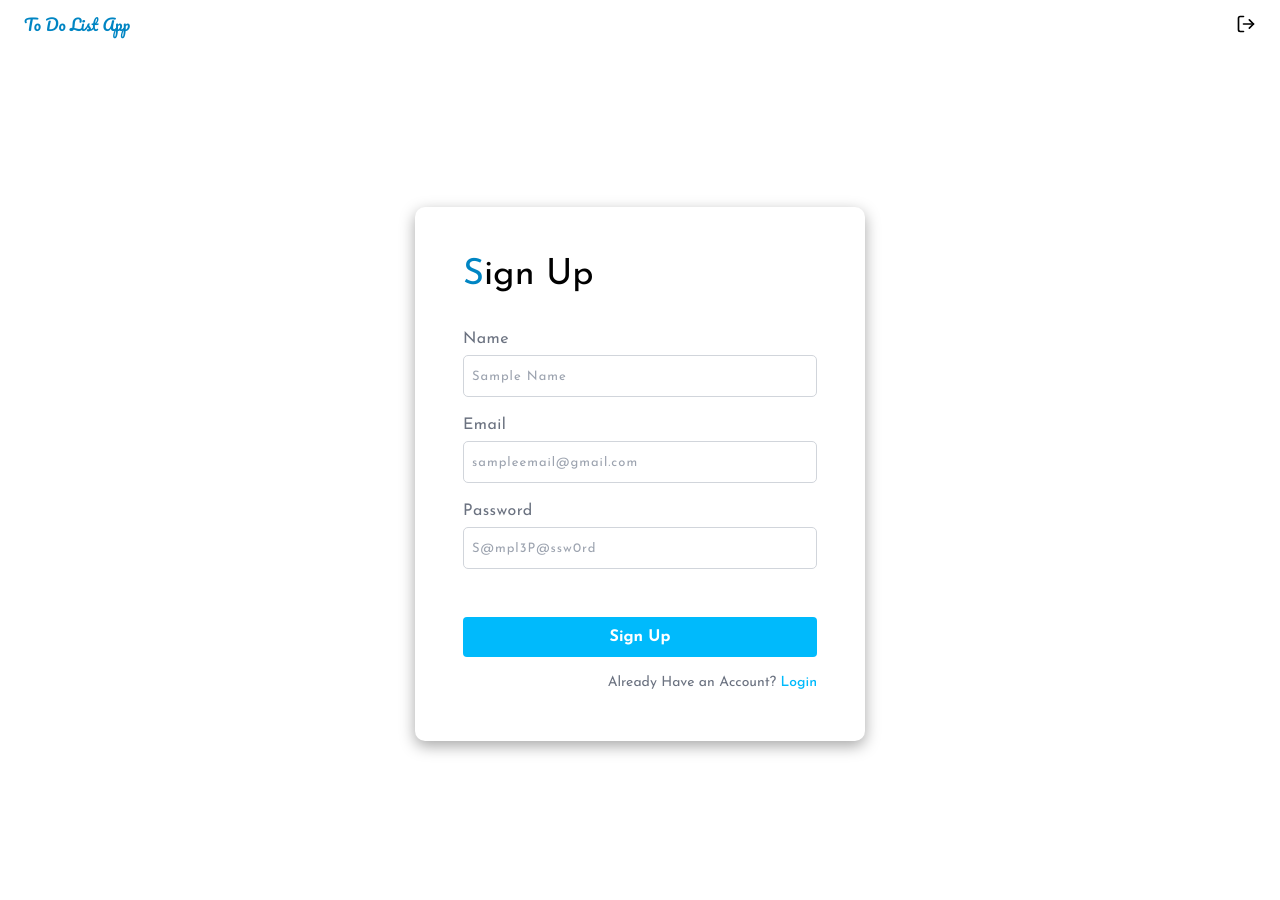
Test: Register View › display error on invalid email
Type "testuser" into the field labelled "Name" at (640, 376), box [463,355,817,397]
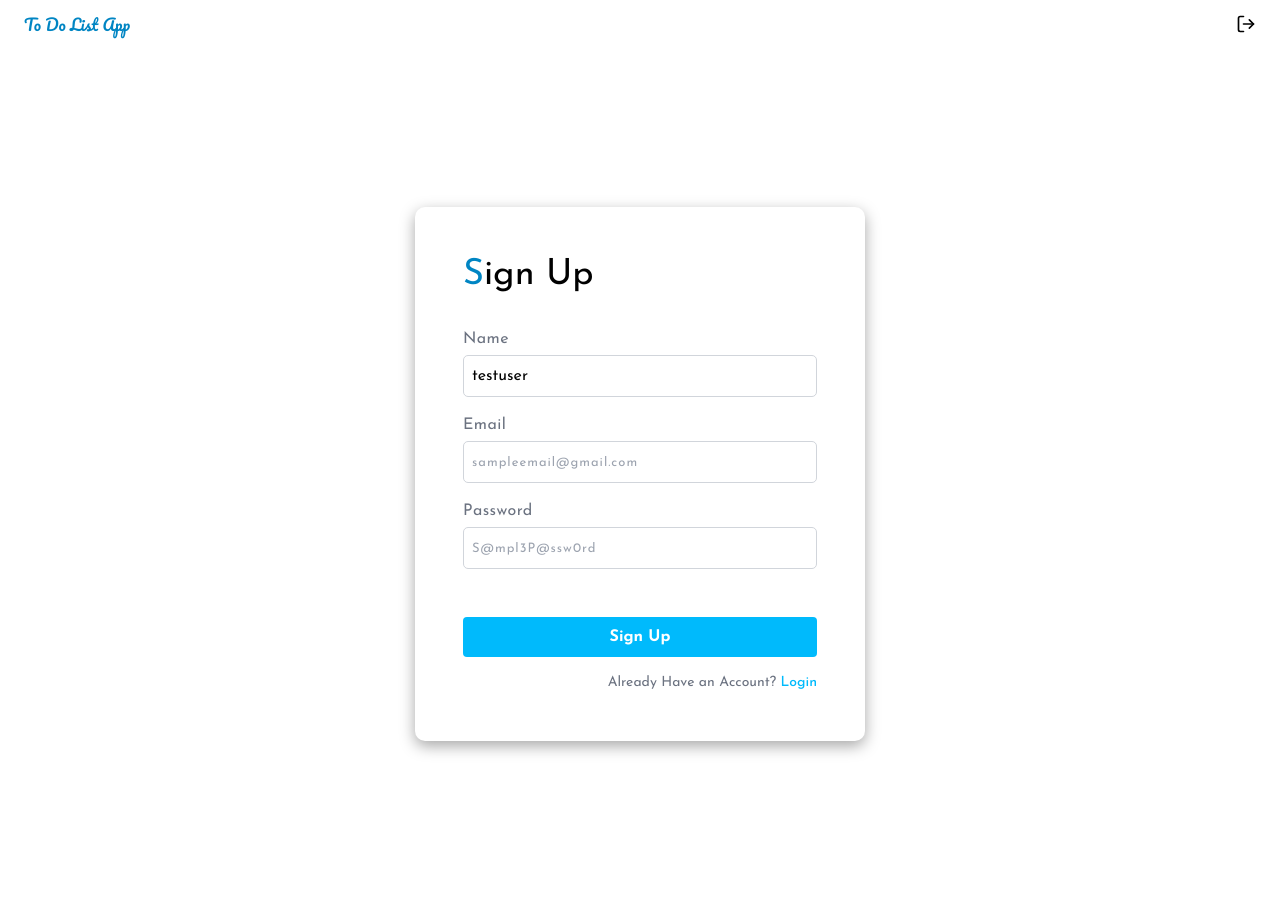
Type "testusergmai" into the field labelled "Email" at (640, 462), box [463,441,817,483]
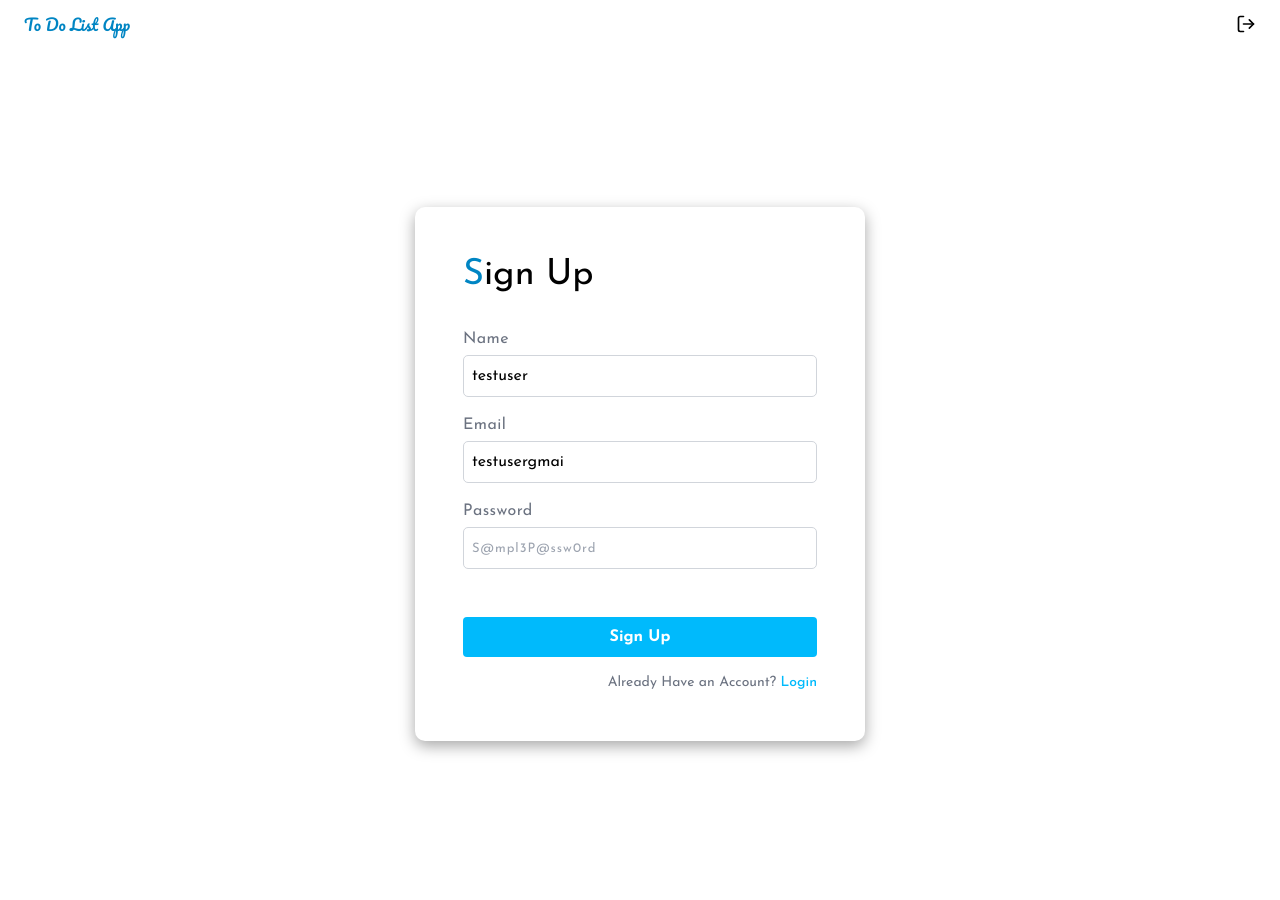
Click the button "Sign Up" at (640, 637), box [463,617,817,657]
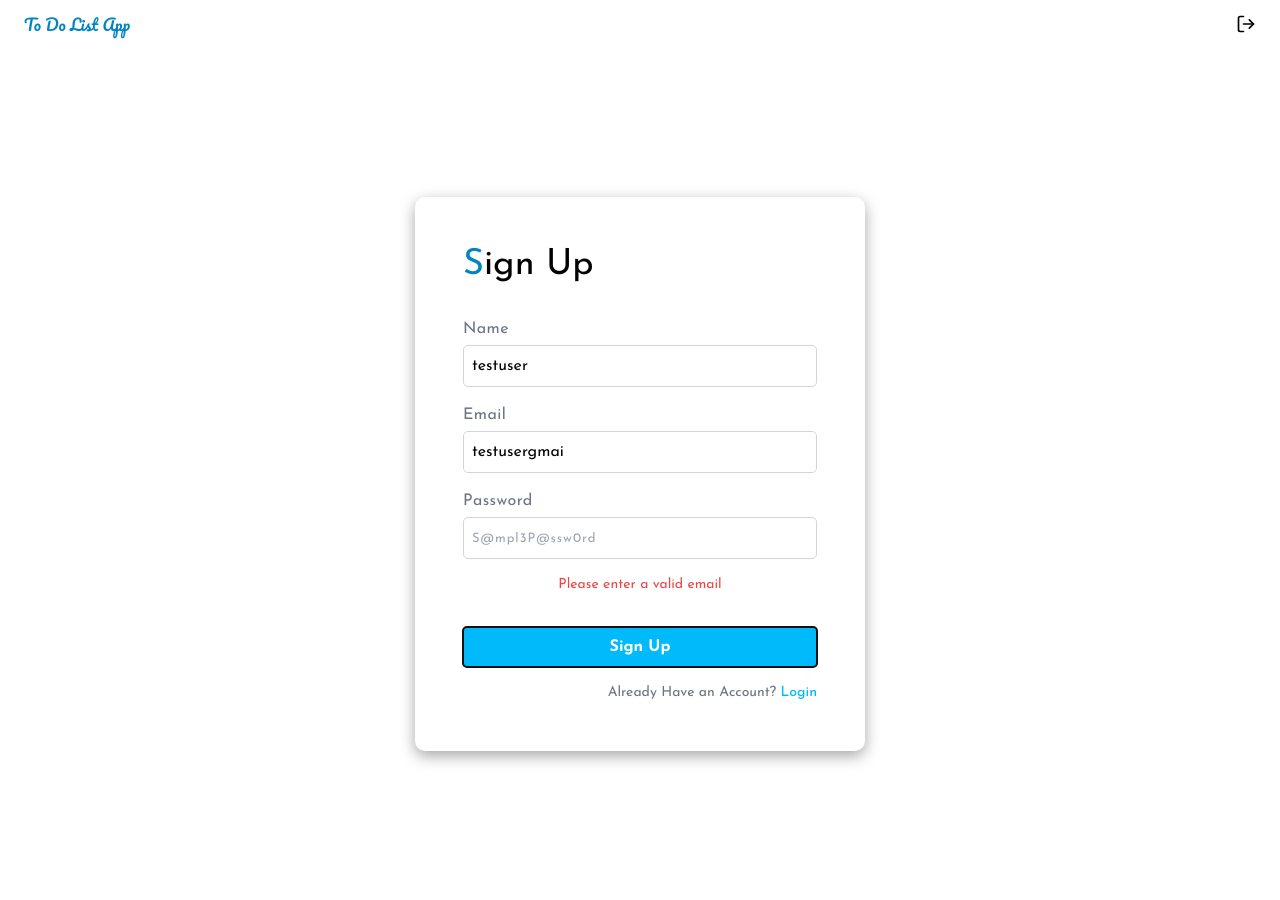
Now the text with test id "error-message" reads "Please enter a valid email", box [558,577,722,592]
